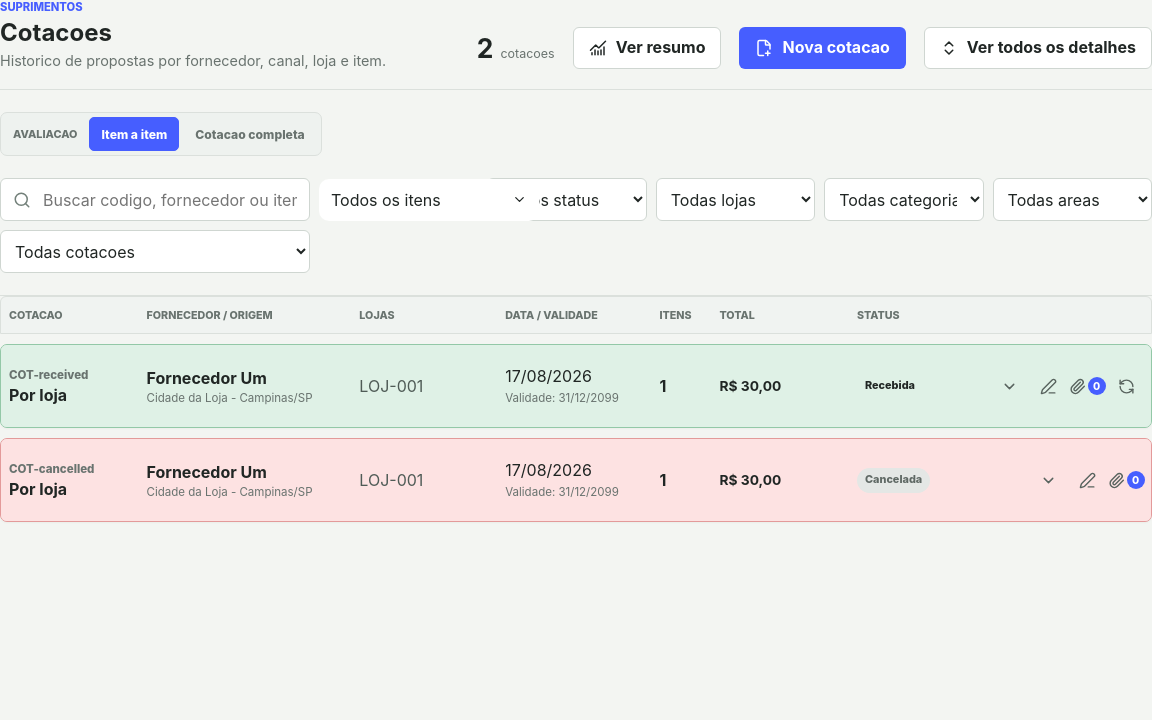
Test: SupplyQuotesPage › ignora cotacoes canceladas no resumo quando o status cancelada nao foi solicitado
Check: the text "COT-received" is shown, box [9,368,88,382]
What coordinates should you click on to do the following:
click the button "Ver resumo"
I would click on:
 (647, 48)
Its box is [573,27,722,69].
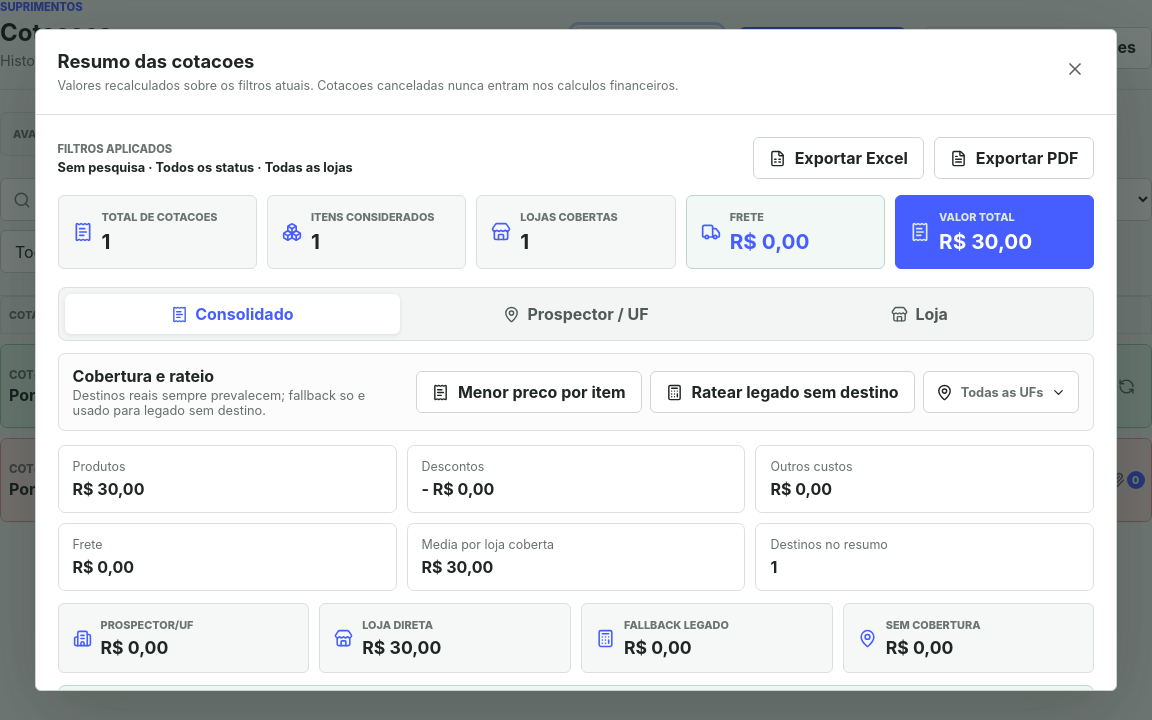
Check: the text "Total de cotacoes" is shown, box [102,210,218,224]
Check: the text "1" below "Total de cotacoes" is shown, box [102,229,110,254]
